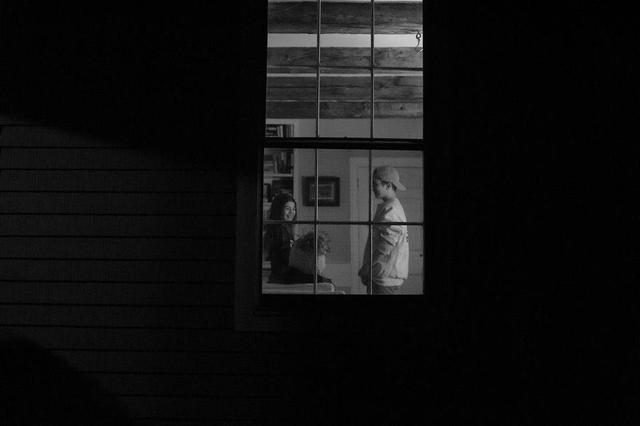face: (371, 177, 390, 199), (281, 199, 296, 224)
specialarea: (288, 208, 293, 212)
